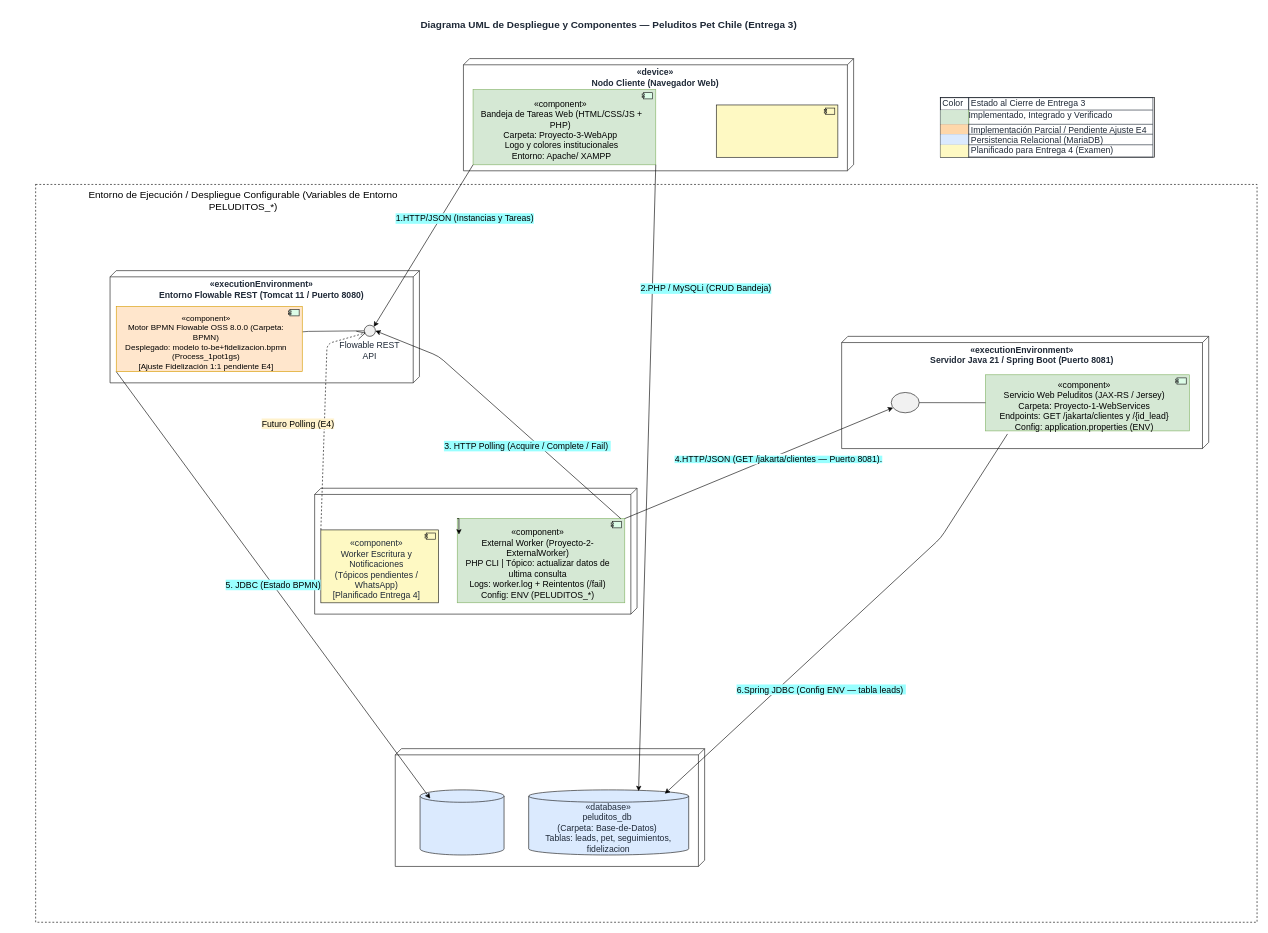
This 1268x933 diagram has some shape labels left out. Each missing label, with the box of its shape:
API REST Negocio: (891, 392, 919, 413)
«component» Dashboard de métricas [Planificado Entrega 4]: (716, 104, 838, 157)
«database» flowable_db (Persistencia Motor BPMN): (419, 789, 504, 855)
«executionEnvironment» Entorno Ejecución (Workers CLI): (314, 488, 637, 614)
«executionEnvironment» Servidor MariaDB (Puerto 3306): (395, 748, 705, 866)
